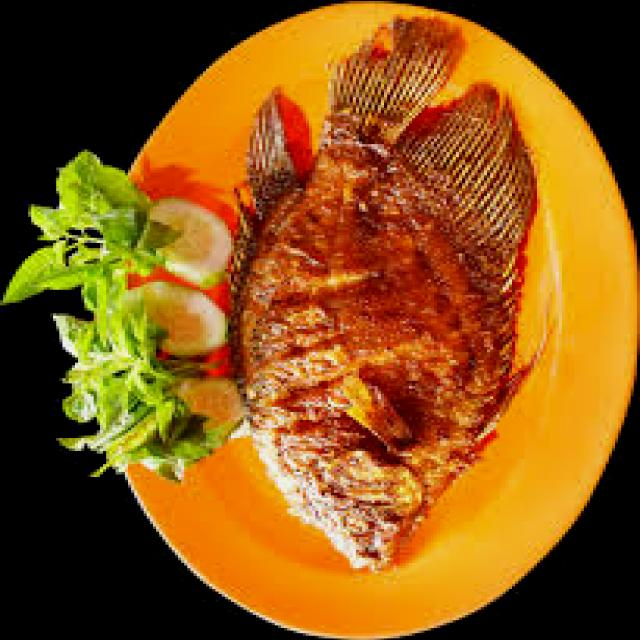ikan goreng: (231, 16, 537, 570)
